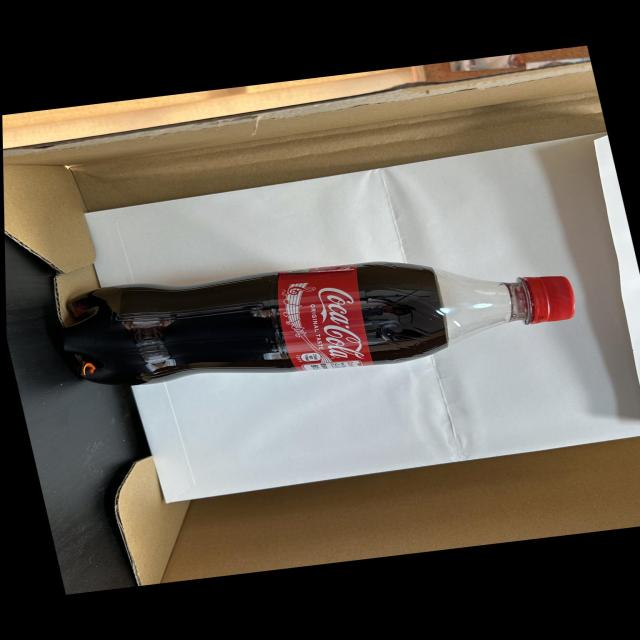high: (64, 262, 574, 386)
